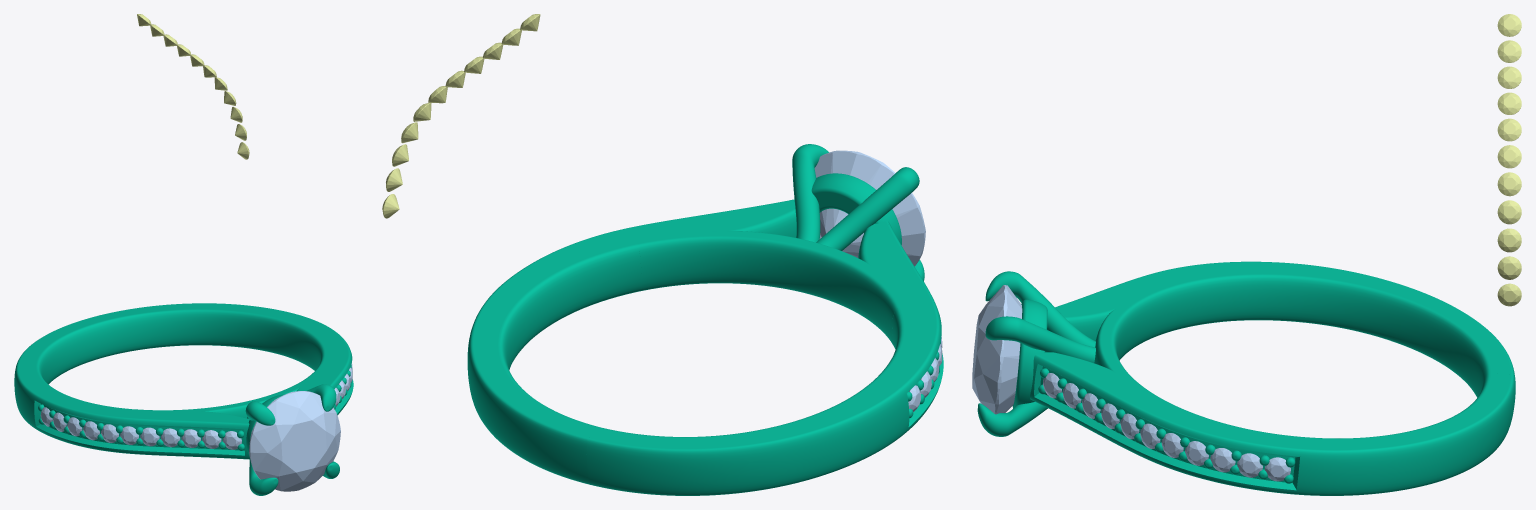
The picture shows the model from 3 angles, left to right: view 1: azimuth 30°, elevation 25°; view 2: azimuth 150°, elevation 25°; view 3: azimuth 270°, elevation 25°; orthographic projection. The views are drawn at different scales.
Visible parts, largest first — view 1: JTC 0006(base).3dm, Diamond_Round; view 2: JTC 0006(base).3dm, Diamond_Round; view 3: JTC 0006(base).3dm, Diamond_Round.
Boxes of the visible parts, left/top/right/bottom form: JTC 0006(base).3dm: left=14, top=303, right=353, bottom=495; Diamond_Round: left=249, top=391, right=340, bottom=491; JTC 0006(base).3dm: left=467, top=144, right=943, bottom=495; Diamond_Round: left=814, top=150, right=925, bottom=266; JTC 0006(base).3dm: left=977, top=261, right=1515, bottom=495; Diamond_Round: left=972, top=285, right=1022, bottom=414.
Bounding box in the file's own units: 2.5 × 2.64 × 3.06.
